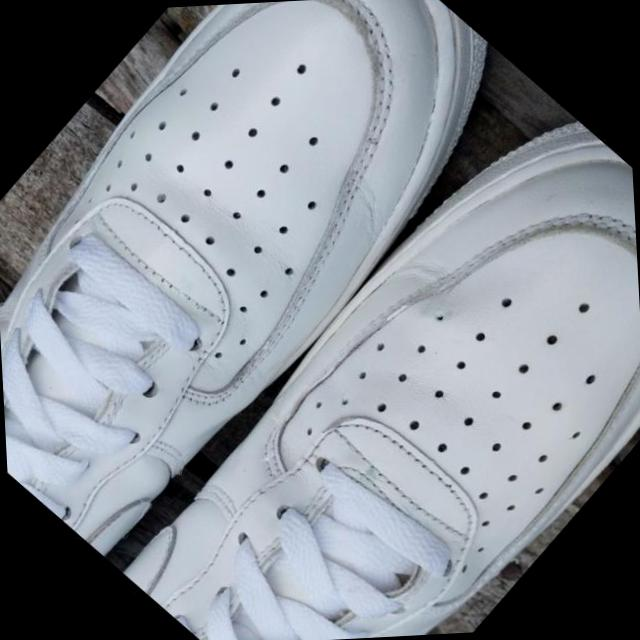nike_original_airforce: (0, 0, 565, 579), (95, 82, 640, 640)
